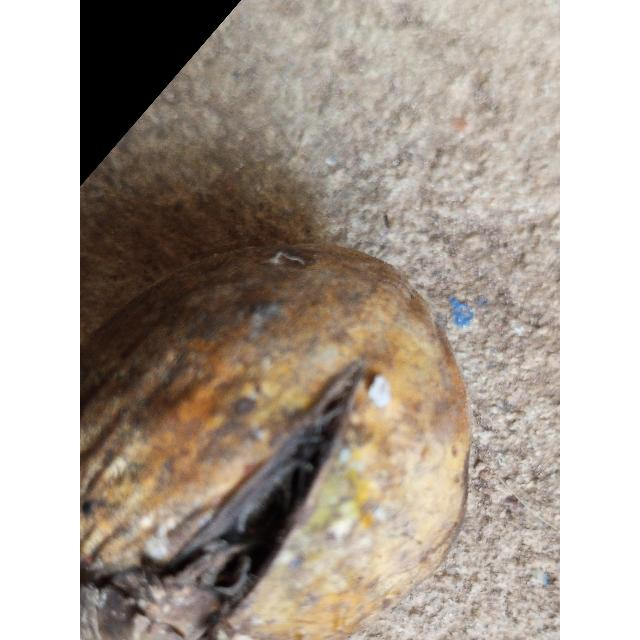damaged: (80, 244, 470, 640)
